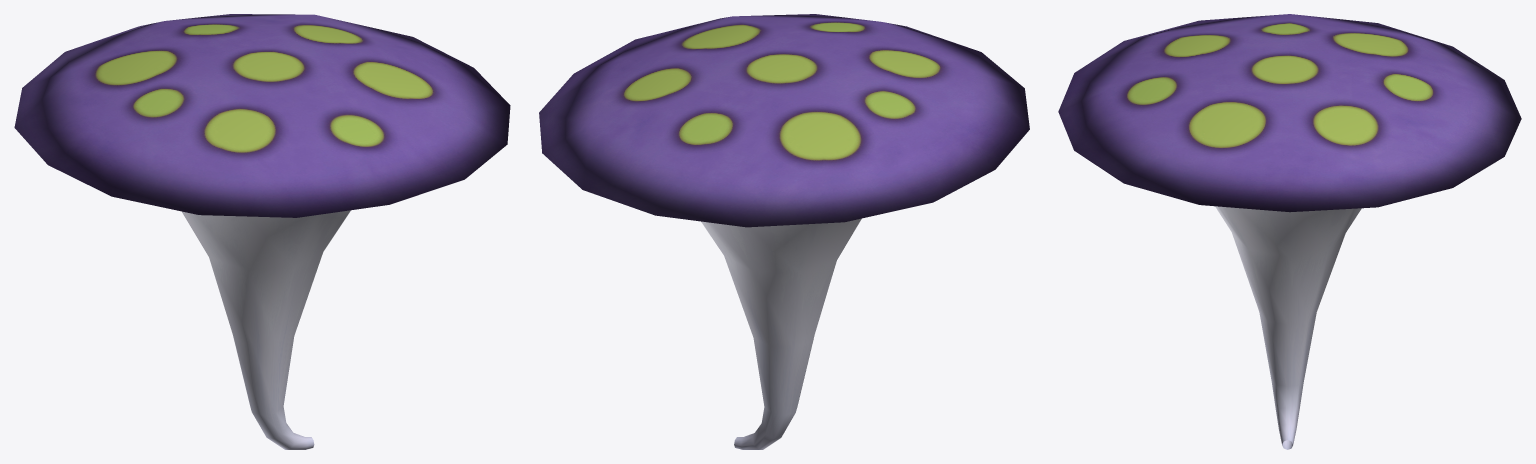
Rendered from Mushroom_Curved2_Purple.fbx.
The picture shows the model from 3 angles, left to right: view 1: azimuth 30°, elevation 25°; view 2: azimuth 150°, elevation 25°; view 3: azimuth 270°, elevation 25°; orthographic projection. The views are drawn at different scales.
Visible parts, largest first — view 1: Mesh; view 2: Mesh; view 3: Mesh.
Part boxes in pixels (x1=…): Mesh: x1=14, y1=14, x2=510, y2=449; Mesh: x1=539, y1=14, x2=1029, y2=449; Mesh: x1=1058, y1=14, x2=1521, y2=449.
Size of the model in its own units: 229 by 203 by 235.
